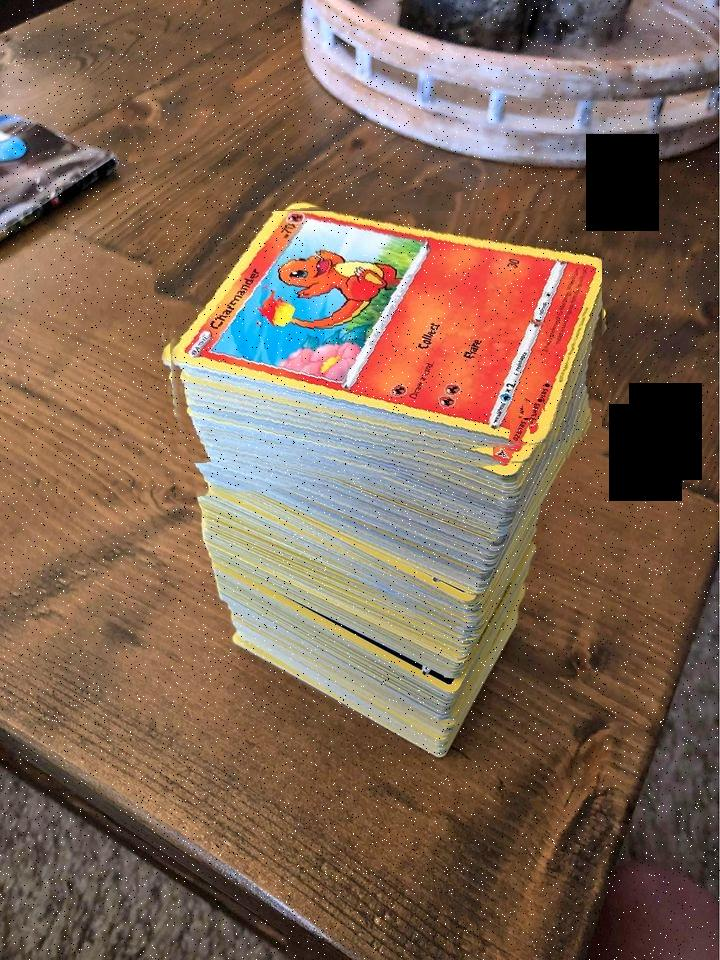card: (171, 211, 602, 445)
name: (204, 253, 261, 321)
set num: (510, 419, 530, 442)
set symbol: (494, 448, 513, 463)
